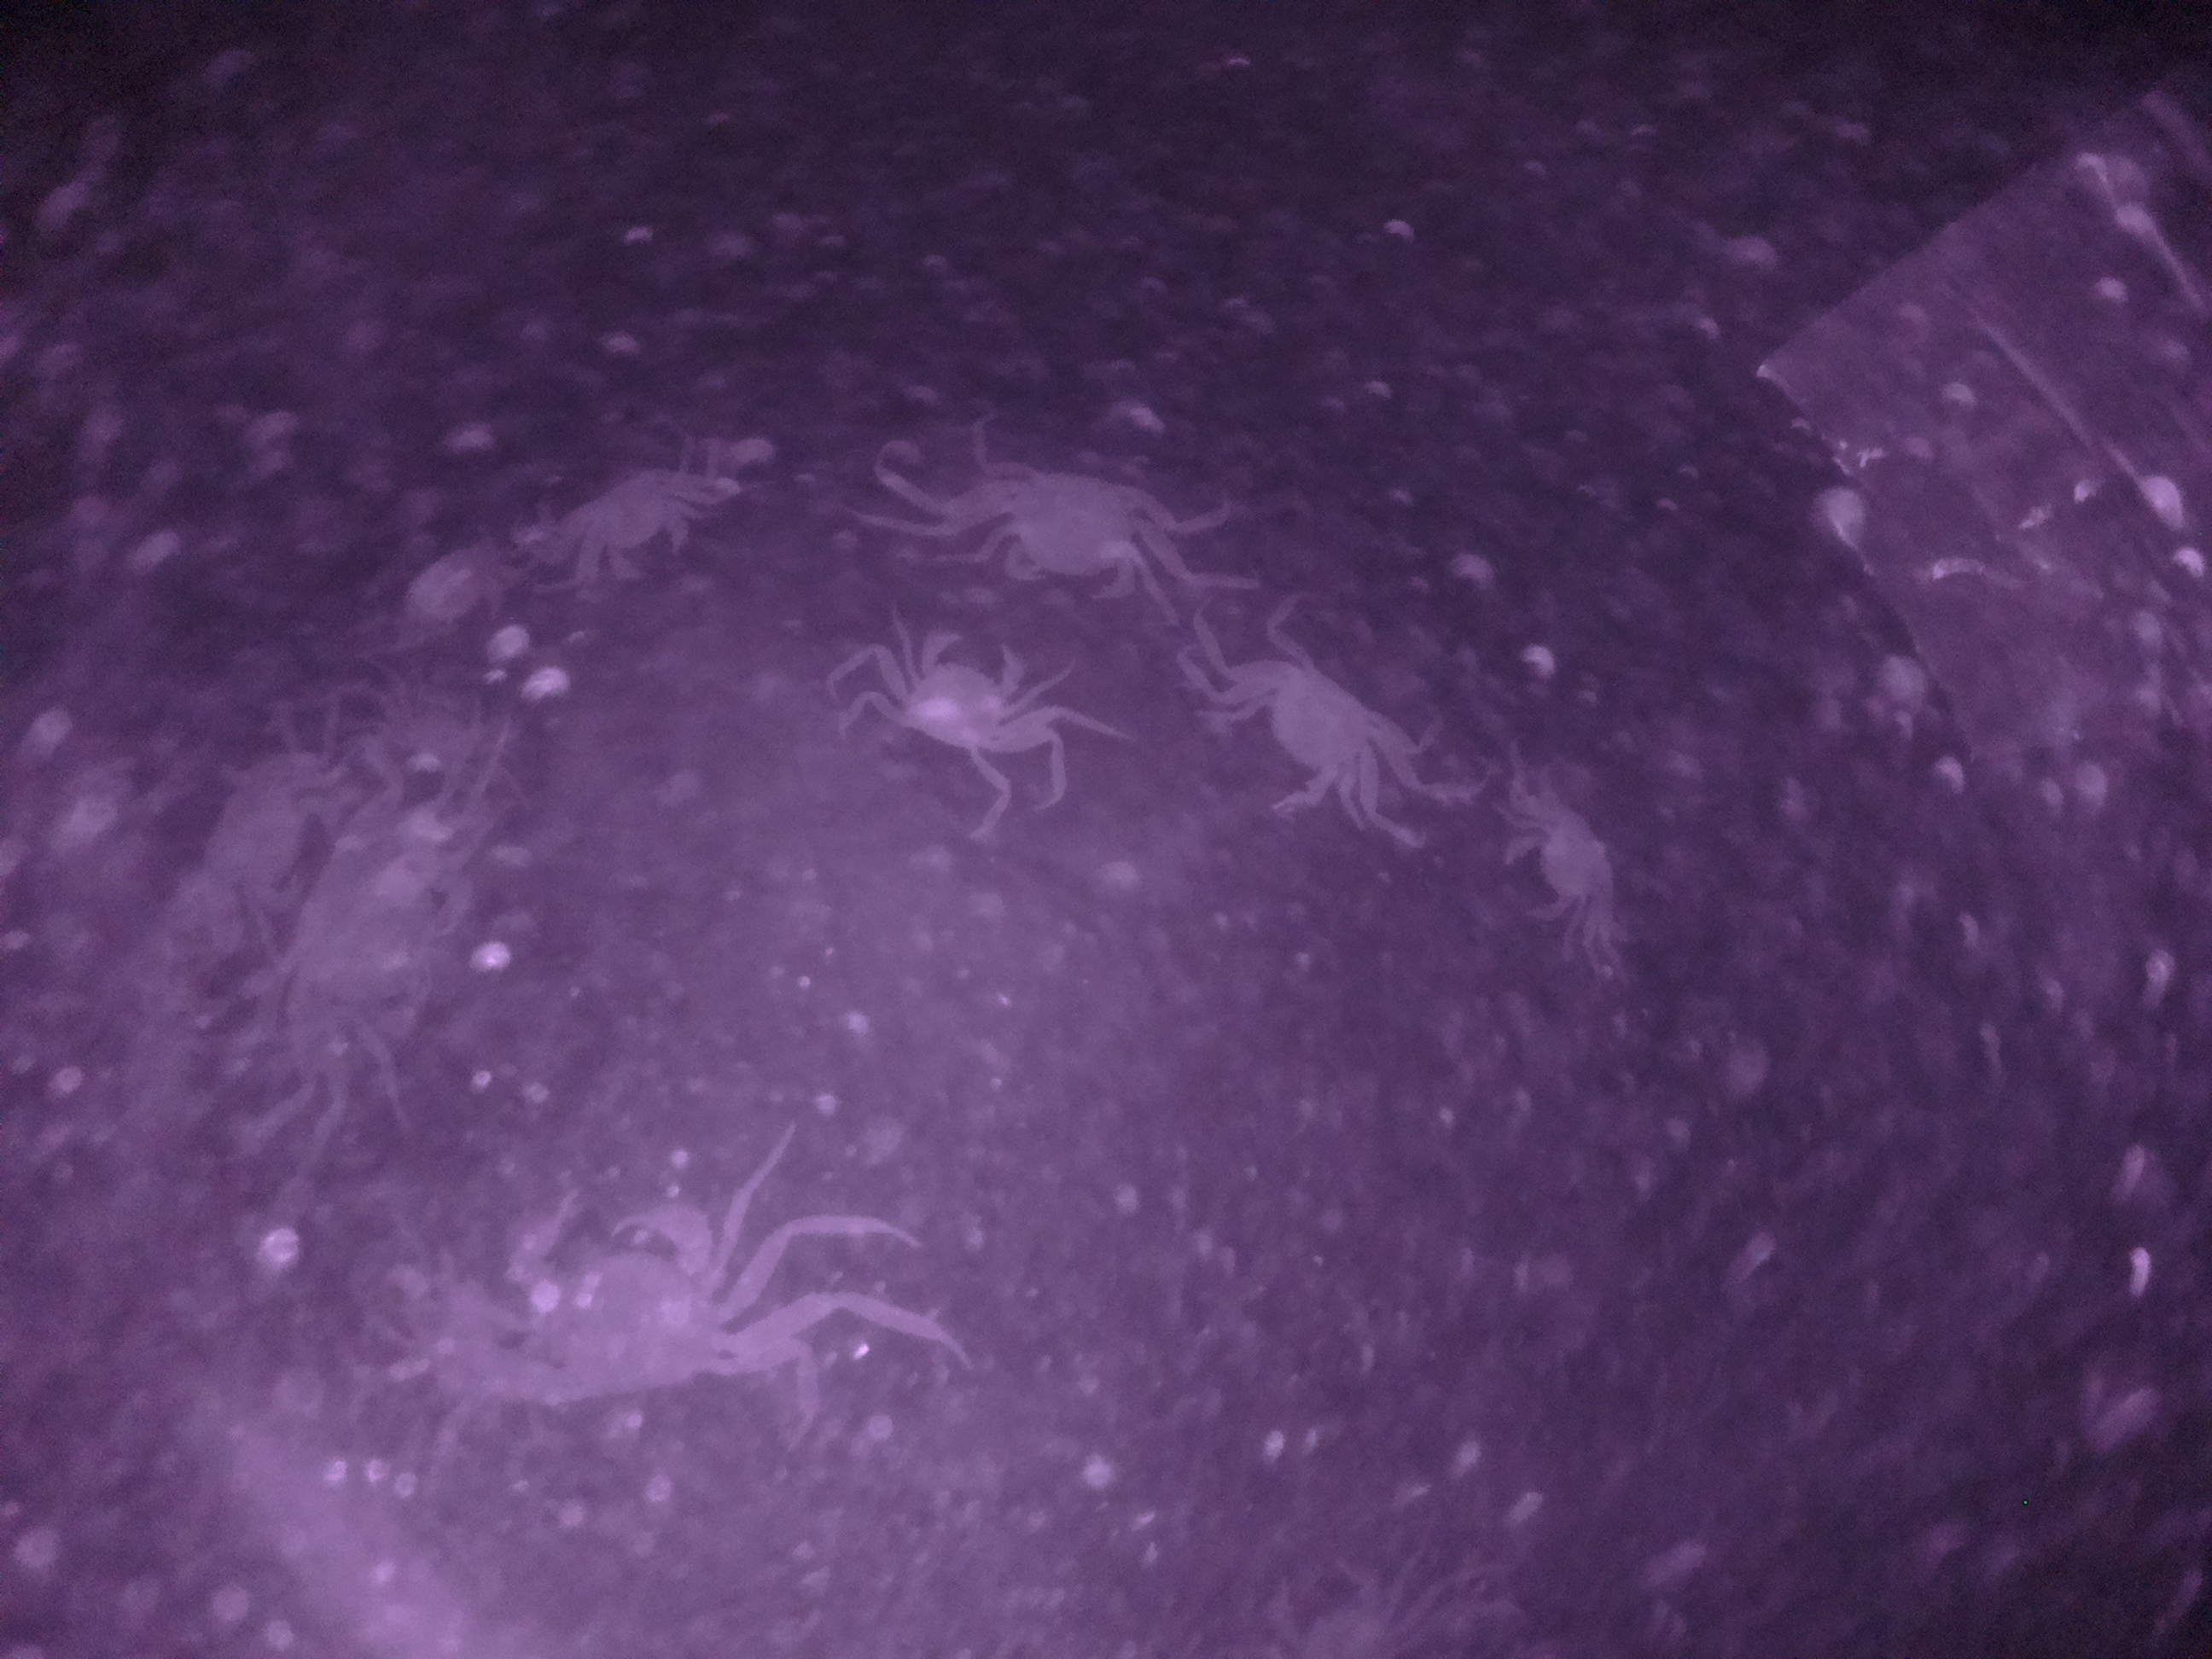Crab: (939, 434, 1193, 617), (1216, 640, 1420, 831), (876, 606, 1040, 775)
